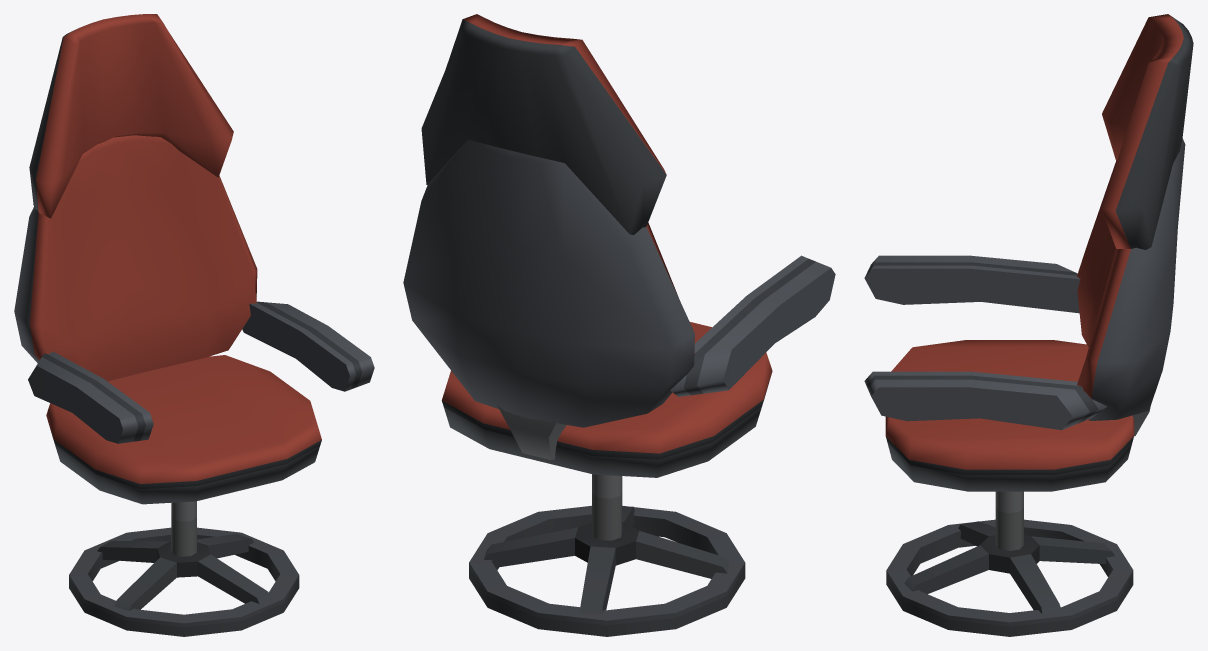
The model's file is SM_GameArea_Chair_06.fbx.
3 renders of one model, left to right at view 1: azimuth 30°, elevation 25°; view 2: azimuth 150°, elevation 25°; view 3: azimuth 270°, elevation 25°, orthographic. The views are drawn at different scales.
Visible parts, largest first — view 1: SM_GameArea_Chair_06; view 2: SM_GameArea_Chair_06; view 3: SM_GameArea_Chair_06.
Part boxes in pixels (<box>): SM_GameArea_Chair_06: <box>14,14,374,636</box>; SM_GameArea_Chair_06: <box>403,14,835,636</box>; SM_GameArea_Chair_06: <box>864,14,1193,636</box>.
Size of what is drawn, in the model's own units: 282 by 545 by 297.
